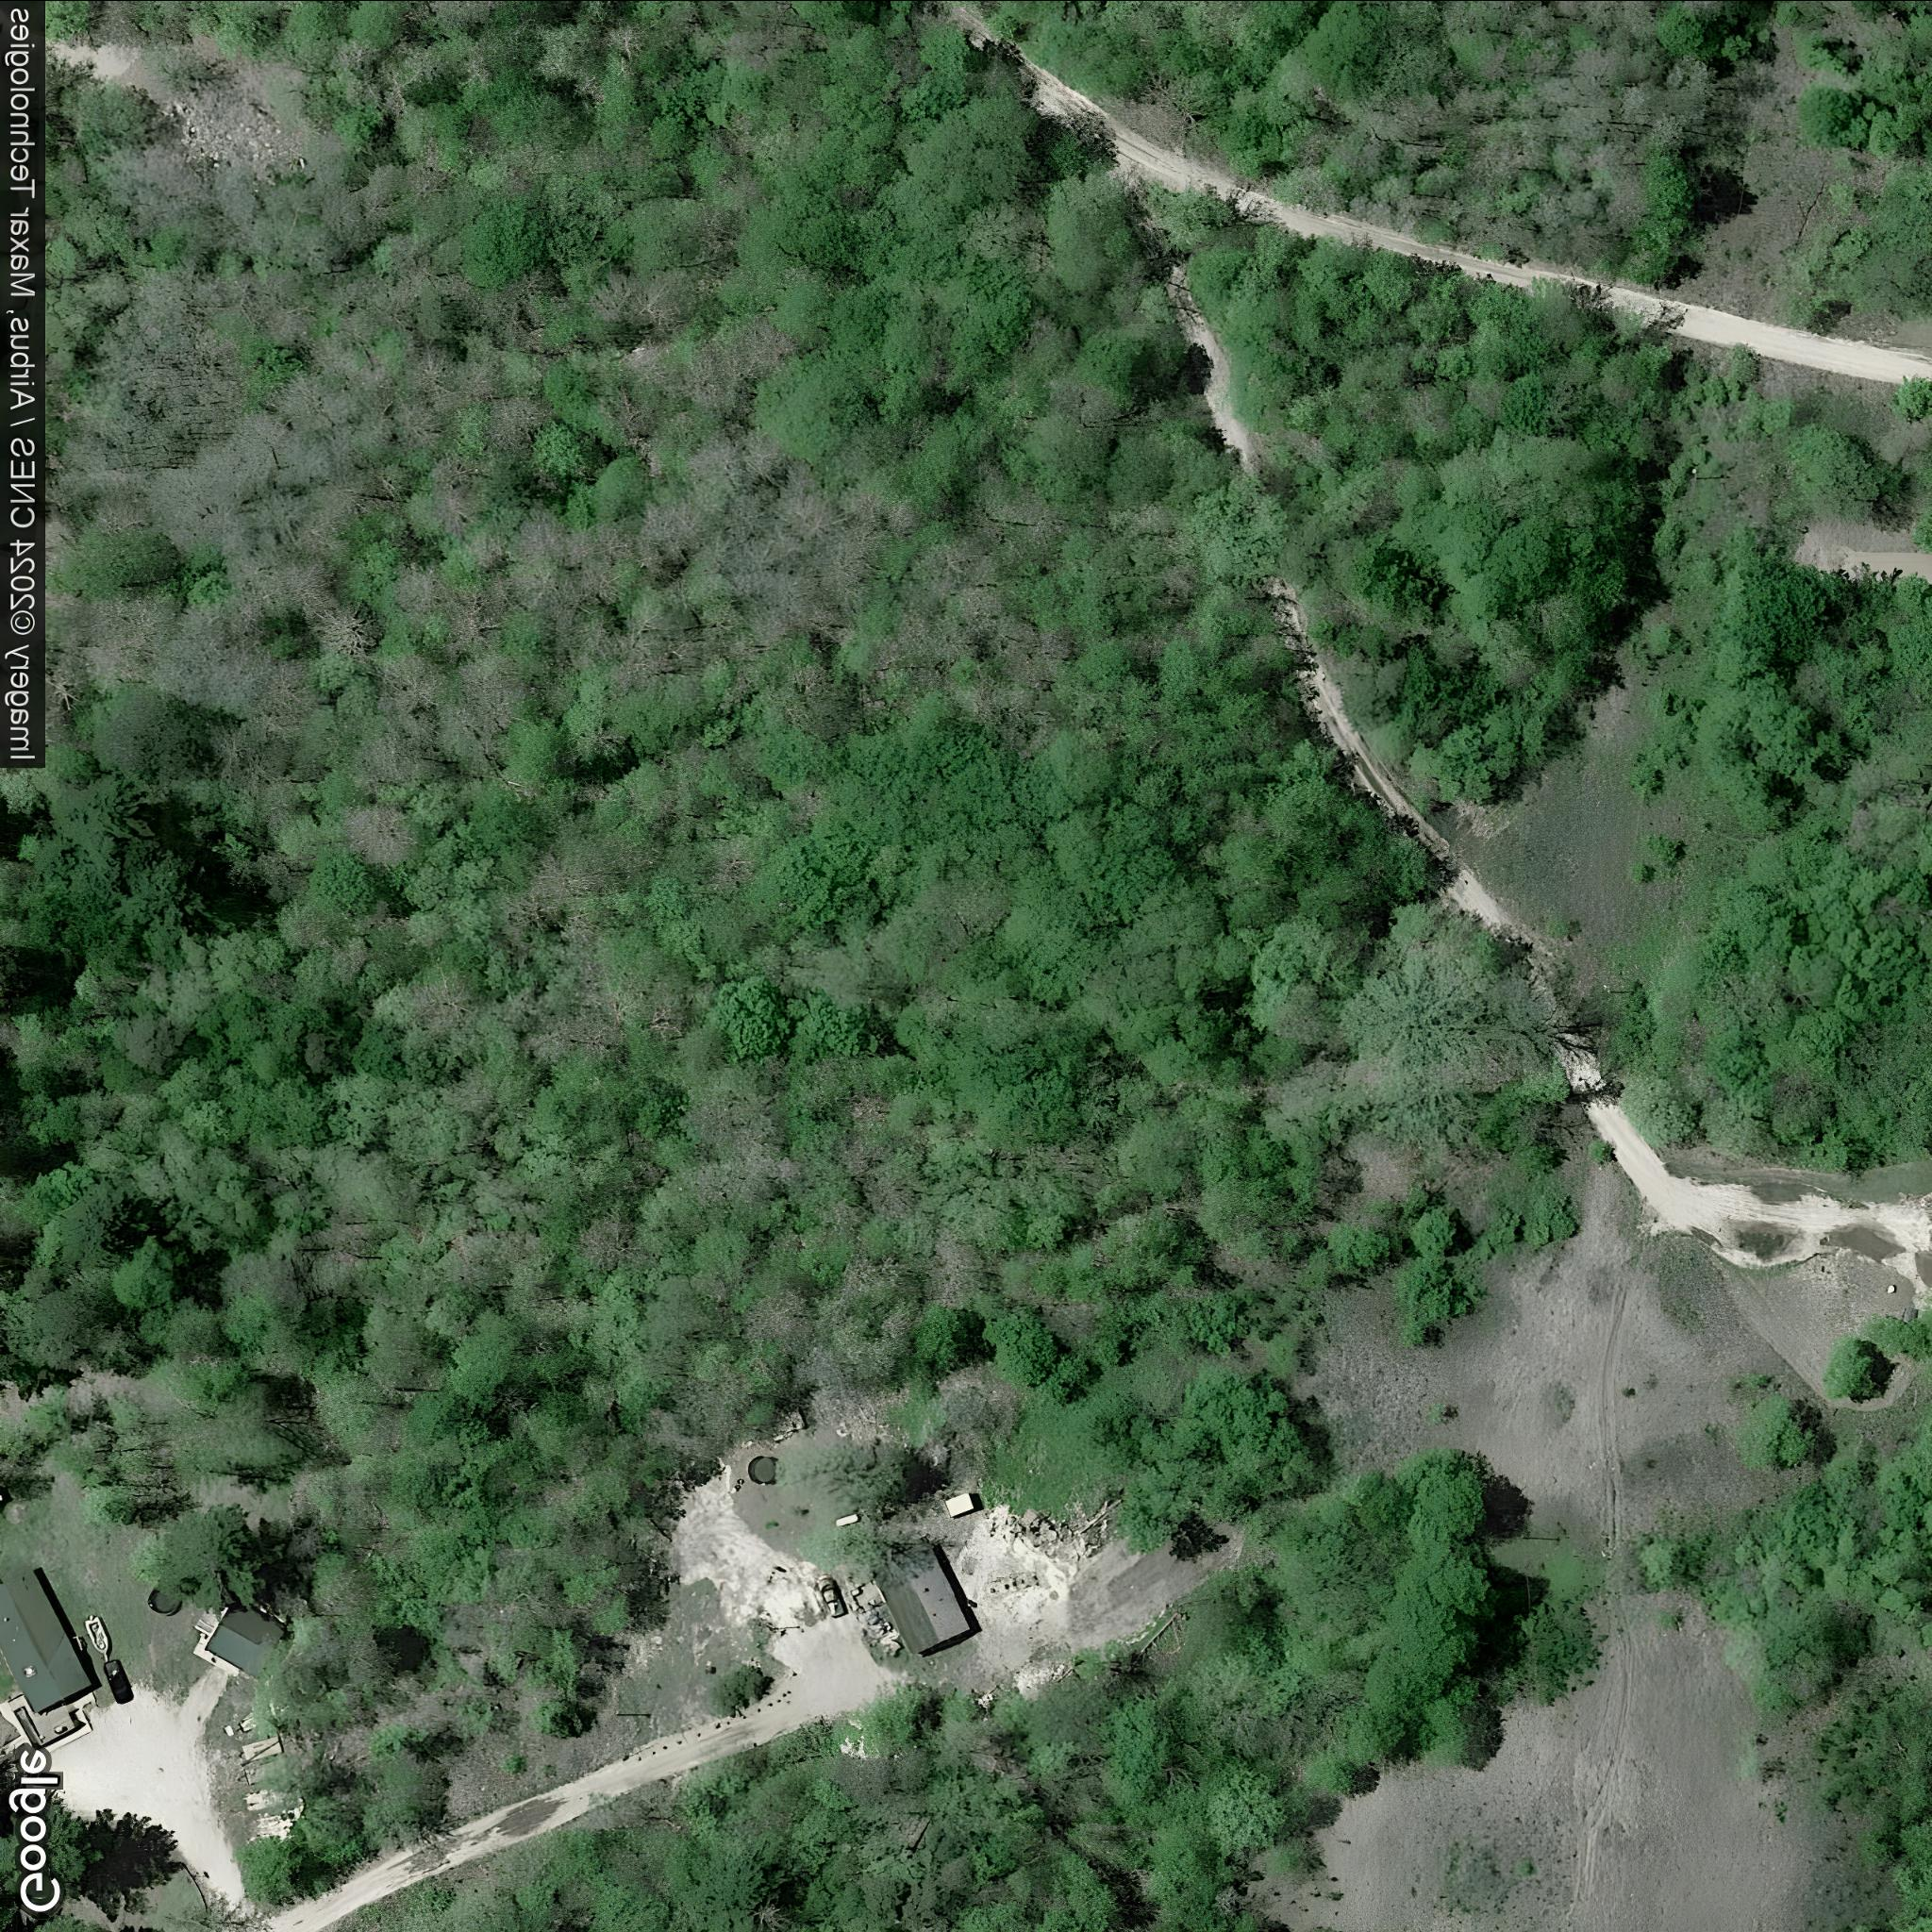Garage: (205, 1594, 290, 1681)
House: (0, 1559, 92, 1716), (867, 1532, 971, 1656)
Propane: (833, 1511, 863, 1529)
